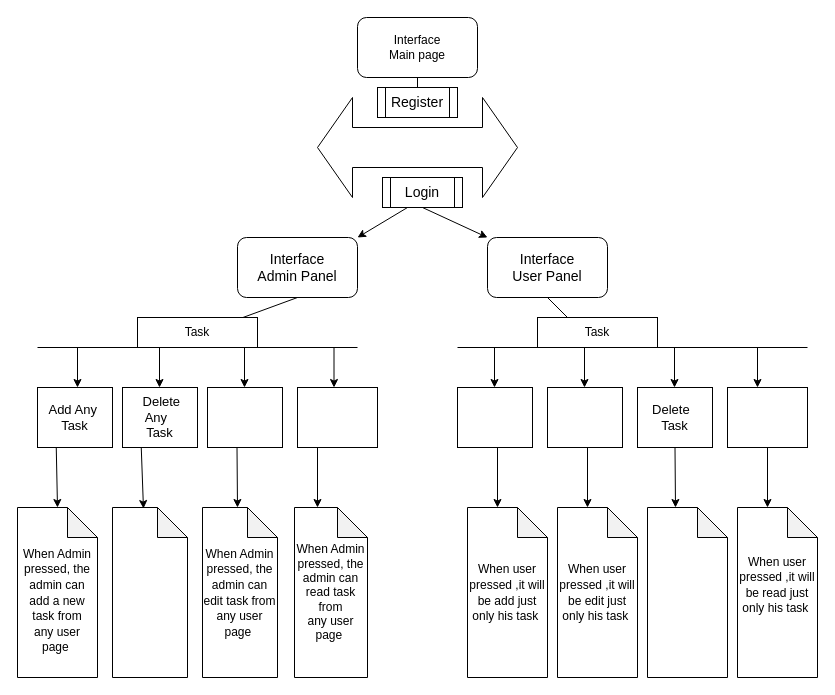
The diagram is 835 pixels wide and 695 high, and some of its shapes have lost their labels. Each missing label, with the centre of its shape:
Add Task: pixel 494 417
Edit Any Task: pixel 244 417
Edit Task: pixel 584 417
enter the email enter password: pixel 417 147
Read Any Task: pixel 337 417
Read Task: pixel 767 417
When Admin pressed, the admin can delete task from any user page: pixel 150 592
When user pressed ,it will be delete just only his task: pixel 687 592
